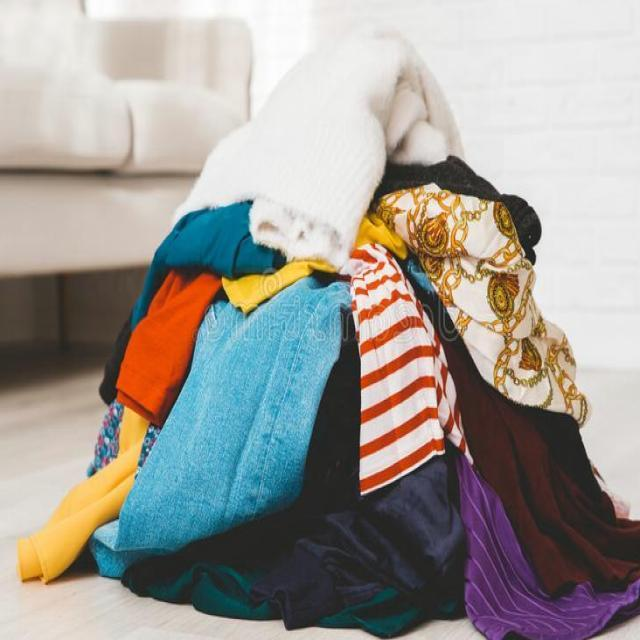clothes: (96, 86, 507, 614)
